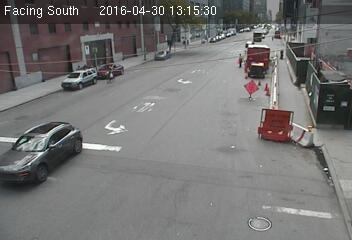neg: (179, 132, 209, 173), (64, 142, 94, 182), (122, 88, 152, 127), (27, 58, 49, 88), (259, 97, 280, 125), (222, 139, 243, 167), (235, 193, 256, 220), (297, 169, 317, 196), (243, 81, 261, 105), (221, 63, 229, 73)
pos: (234, 51, 245, 66)
